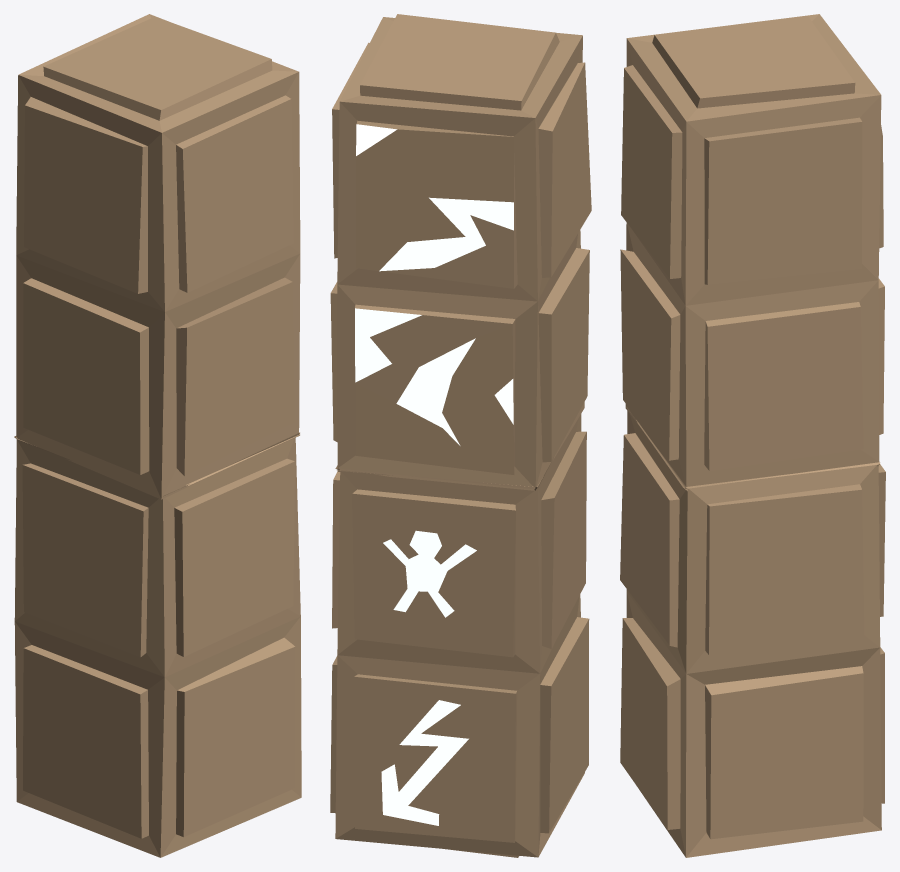
Rendered from Column.glb.
3 views of the same model, side by side, from view 1: azimuth 30°, elevation 25°; view 2: azimuth 150°, elevation 25°; view 3: azimuth 270°, elevation 25° (orthographic).
Parts seen in each view (by area): view 1: Column.002; view 2: Column.002; view 3: Column.002.
Boxes of the visible parts, bbox=[...] form: Column.002: bbox=[14, 14, 301, 857]; Column.002: bbox=[330, 14, 591, 857]; Column.002: bbox=[620, 14, 885, 857].
Size of the model in its own units: 2.64 by 8.26 by 2.63.
Materials: 1 (1 with a texture image).
